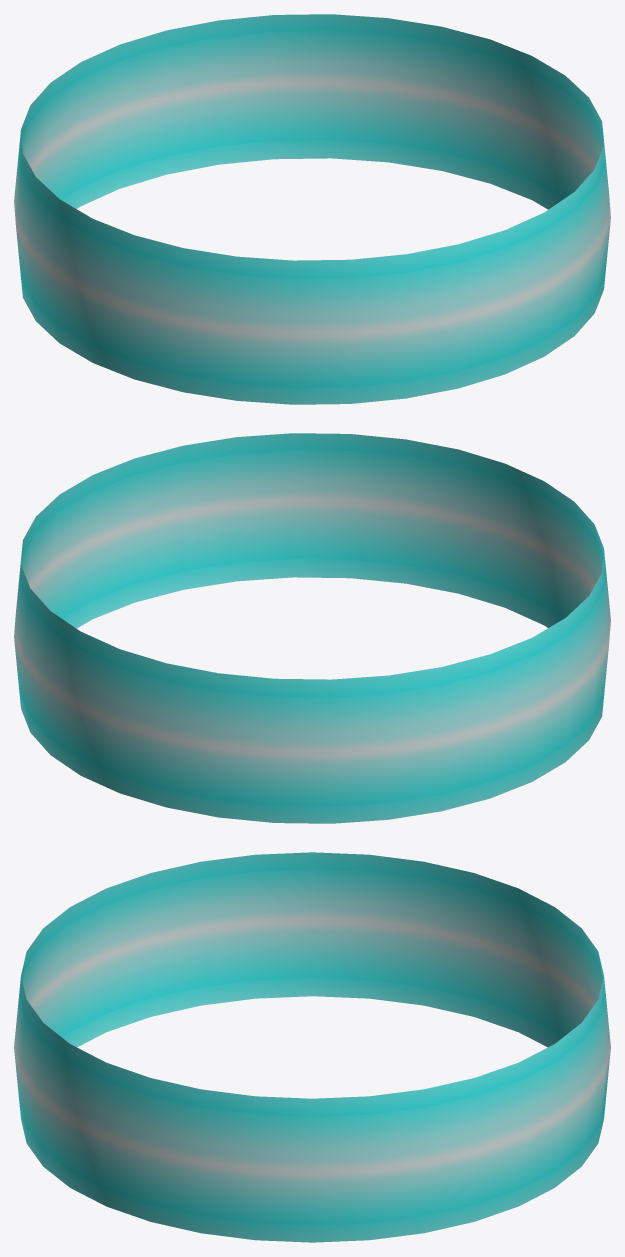
File: Core.FBX
The picture shows the model from 3 angles, top to bottom: view 1: azimuth 30°, elevation 25°; view 2: azimuth 150°, elevation 25°; view 3: azimuth 270°, elevation 25°; orthographic projection.
Parts seen in each view (by area): view 1: Core; view 2: Core; view 3: Core.
Part boxes in pixels (x1=…): Core: x1=14, y1=14, x2=610, y2=404; Core: x1=14, y1=433, x2=610, y2=823; Core: x1=14, y1=852, x2=610, y2=1242.
Size of the model in its own units: 79.91 by 21.26 by 79.91.
1 material, 1 textured.
